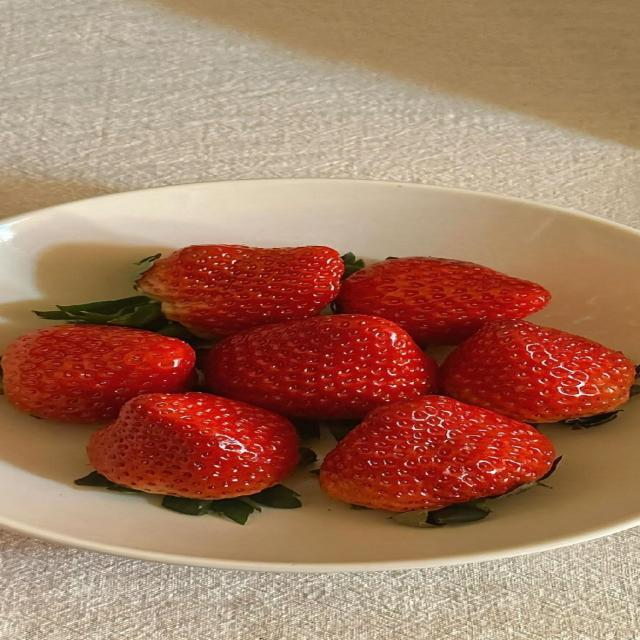strawberry: (320, 396, 554, 511), (206, 315, 437, 418), (87, 393, 298, 499), (442, 321, 635, 422), (336, 257, 550, 346), (137, 245, 344, 337), (2, 326, 194, 422)
